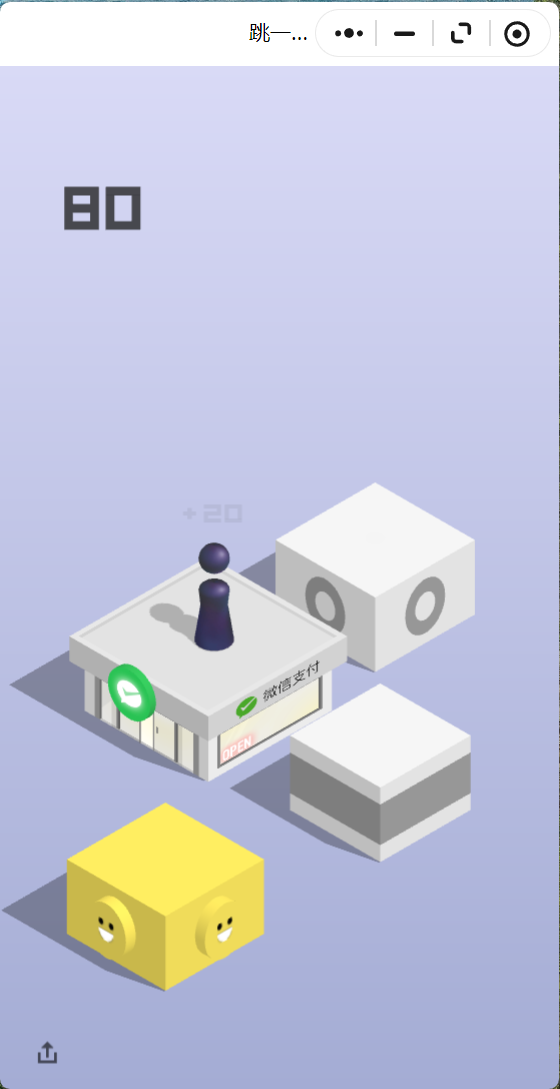piece: (199, 543, 229, 643)
target: (276, 482, 476, 595)
